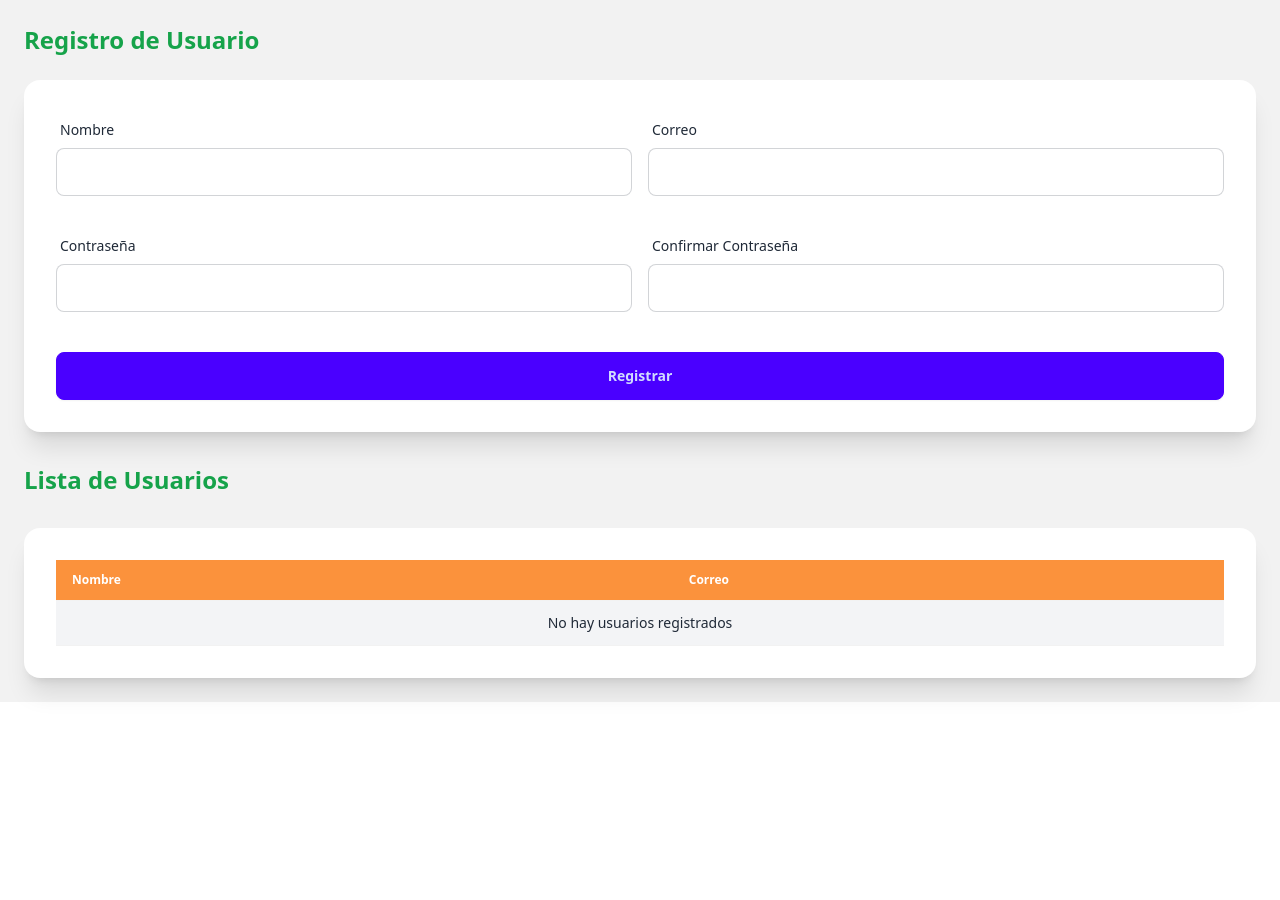
RegisterUser Component › shows validation messages for empty required fields
This screenshot has width=1280, height=900.
Click the button "Registrar": (640, 376) [56,352,1224,400]
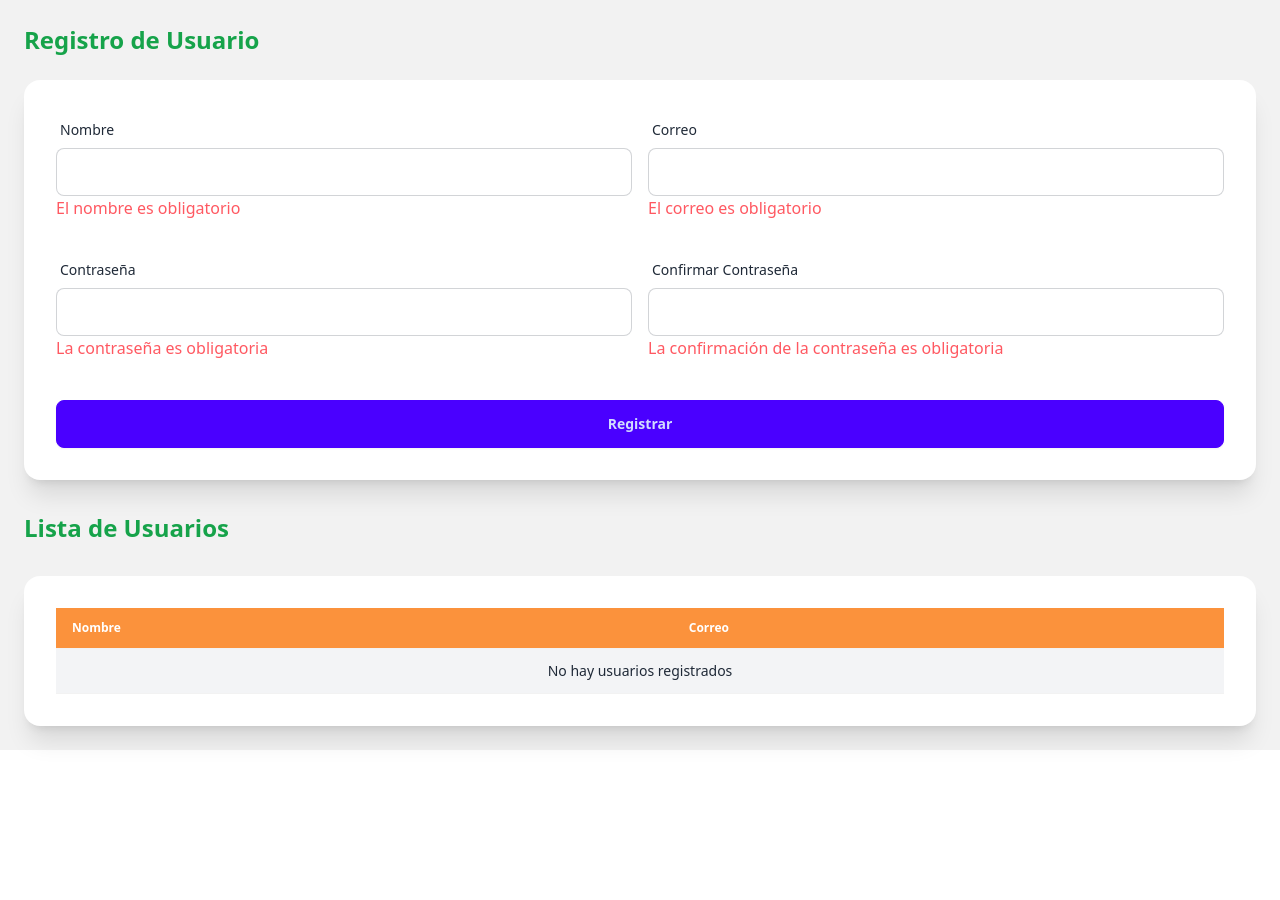
Now the text "El nombre es obligatorio" is shown, box [56,197,240,219]
Now the text "El correo es obligatorio" is shown, box [648,197,822,219]
Now the text "La contraseña es obligatoria" is shown, box [56,337,268,359]
